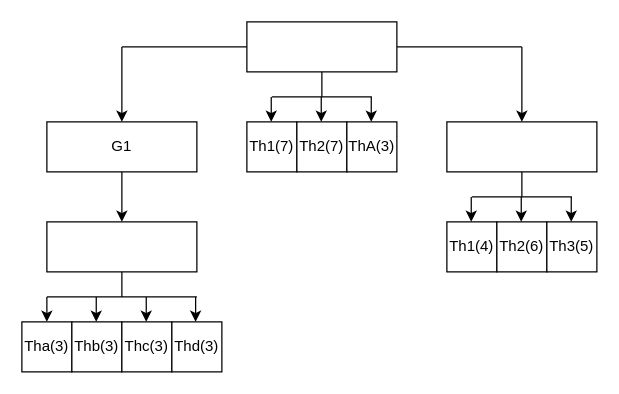
Some shapes in this 619 by 394 pixel diagram are drawn without their labels. Here are the shapes that lost their labels. From the top down, the centre of each, then its label:
the point at 321,46: main
the point at 521,146: G2
the point at 121,246: G3
